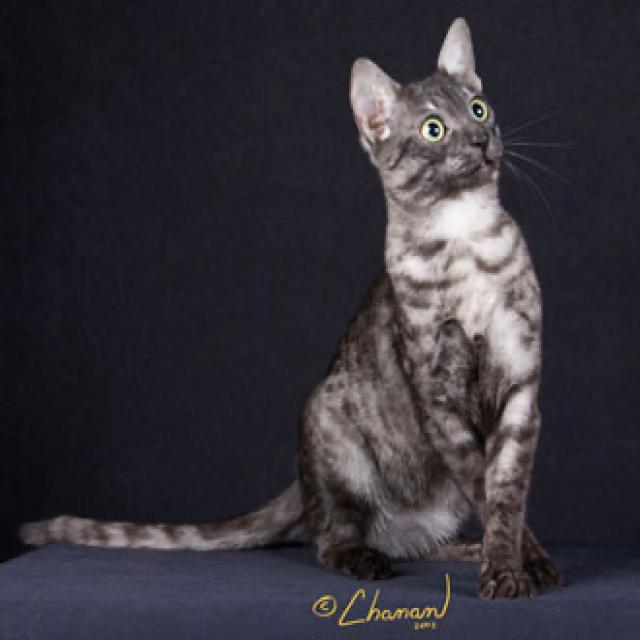cat: (348, 13, 500, 200)
